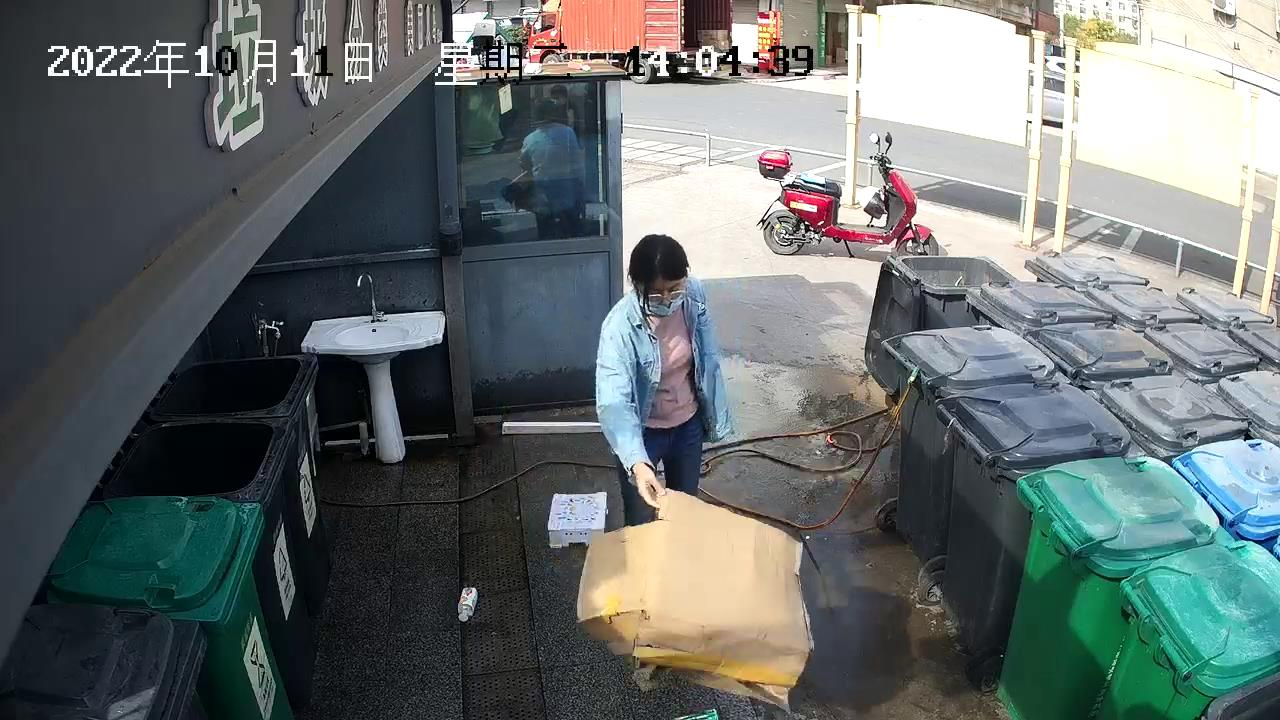suliaozhipin: (543, 487, 611, 549), (456, 582, 479, 623)
worker: (592, 232, 737, 529)
zhizhipin: (576, 484, 817, 716)
